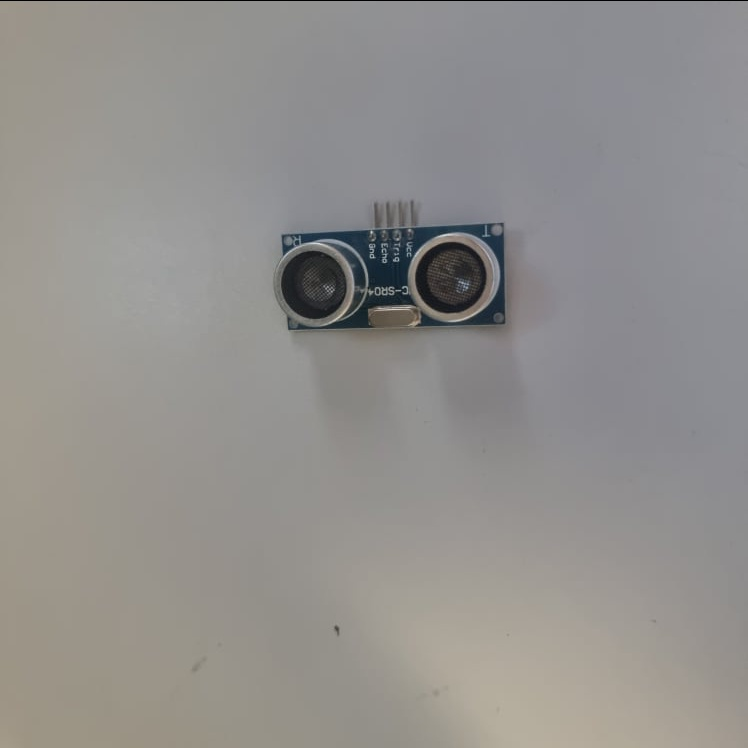SENSOR: (276, 217, 505, 330)
